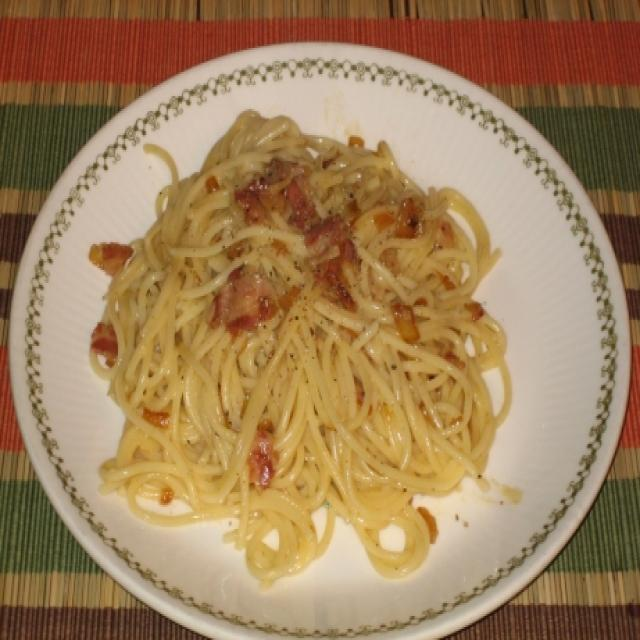Pasta: (86, 97, 518, 569)
